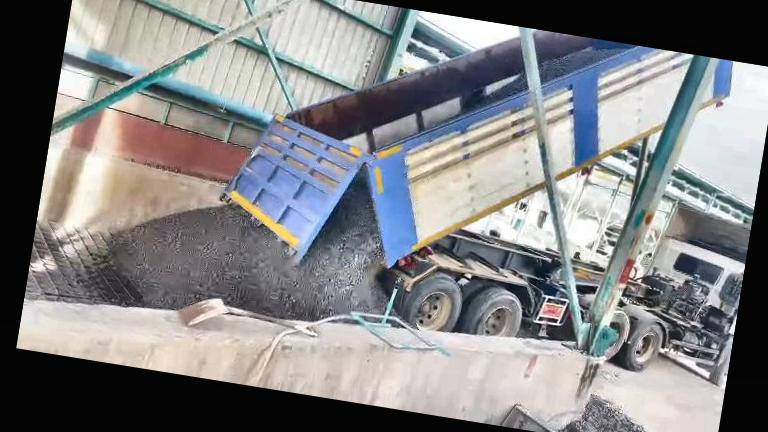gravel: (109, 175, 386, 320), (565, 396, 665, 432)
